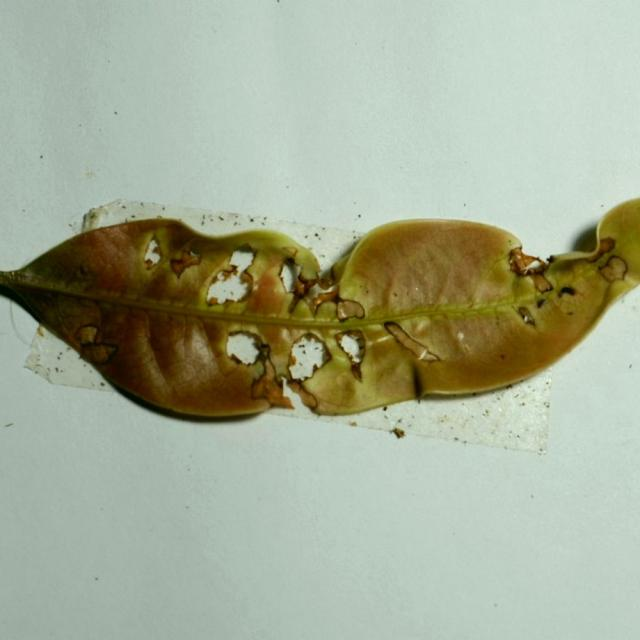Anthracnose: (508, 233, 625, 326), (281, 332, 338, 408), (215, 328, 276, 397), (277, 248, 328, 318), (203, 245, 260, 306), (141, 235, 206, 286), (72, 320, 122, 365), (384, 322, 440, 362), (508, 247, 553, 294), (307, 284, 360, 323), (335, 331, 368, 381), (581, 237, 617, 264), (64, 264, 95, 289), (281, 260, 301, 293), (73, 324, 99, 346), (234, 242, 256, 260), (517, 306, 535, 327), (282, 246, 298, 258), (229, 354, 242, 366), (144, 258, 154, 269)
Mango: (0, 200, 639, 424)
